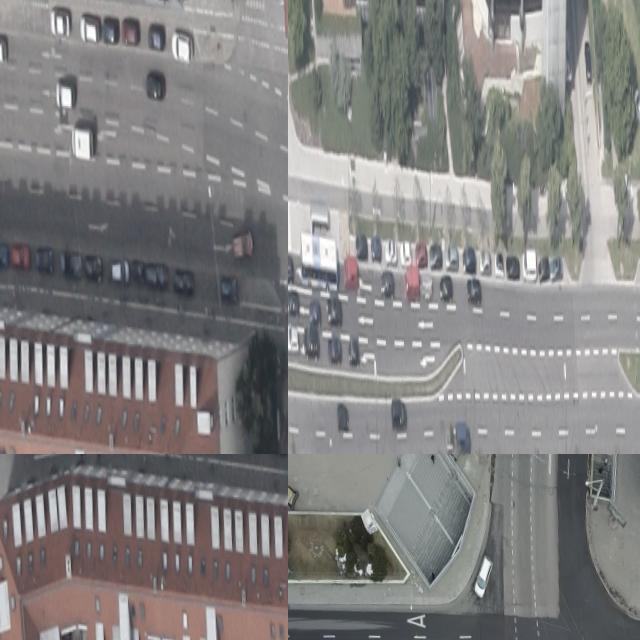UAI: (472, 554, 495, 600), (171, 30, 194, 65), (146, 70, 167, 103), (61, 252, 83, 282), (145, 263, 168, 291), (55, 79, 76, 109), (233, 231, 254, 261), (304, 324, 320, 362), (403, 267, 420, 302), (174, 268, 195, 296), (343, 255, 359, 291), (147, 22, 166, 52), (84, 254, 103, 284), (391, 398, 408, 431), (121, 18, 141, 46), (80, 16, 100, 44), (50, 10, 70, 38), (521, 246, 537, 281), (35, 247, 54, 275), (455, 421, 471, 454), (327, 334, 343, 365), (466, 276, 482, 307), (12, 244, 31, 270), (111, 260, 130, 286), (462, 245, 477, 277), (221, 277, 238, 305), (327, 298, 343, 327), (101, 18, 118, 44), (131, 256, 145, 287), (445, 242, 459, 273), (380, 270, 394, 299), (439, 274, 453, 303), (632, 84, 640, 134), (288, 323, 300, 356), (288, 288, 300, 319), (400, 237, 412, 268), (429, 242, 442, 270), (384, 237, 397, 265), (355, 233, 368, 261), (506, 255, 520, 280), (415, 240, 427, 269), (337, 403, 349, 432), (550, 255, 563, 281), (309, 299, 321, 327), (348, 338, 360, 366), (584, 41, 592, 83), (539, 255, 550, 284), (371, 234, 382, 263), (479, 250, 491, 276), (421, 274, 432, 300), (0, 31, 8, 65), (445, 426, 455, 453), (495, 252, 504, 279), (0, 244, 8, 267), (288, 251, 293, 282)
car: (299, 228, 339, 292)
harvester: (70, 125, 94, 164)
